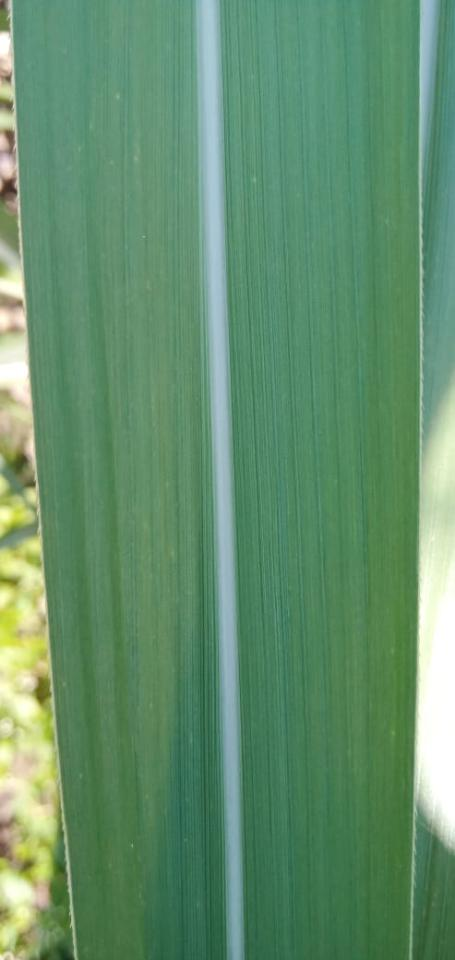Healthy: (13, 0, 419, 959), (415, 0, 454, 959)
